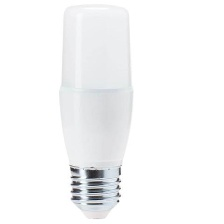light_bulb: (54, 1, 138, 222)
